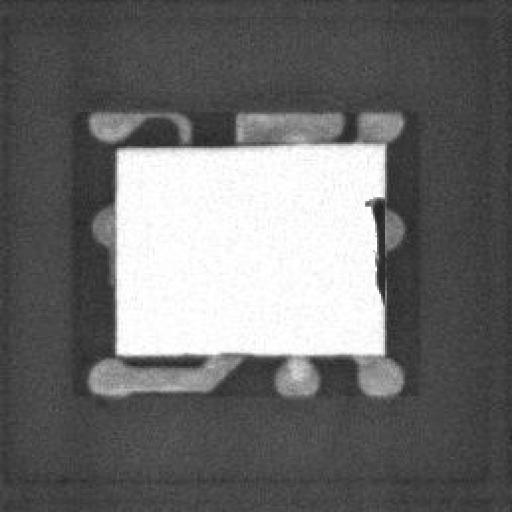DIE_BROKEN: (359, 190, 387, 307)
